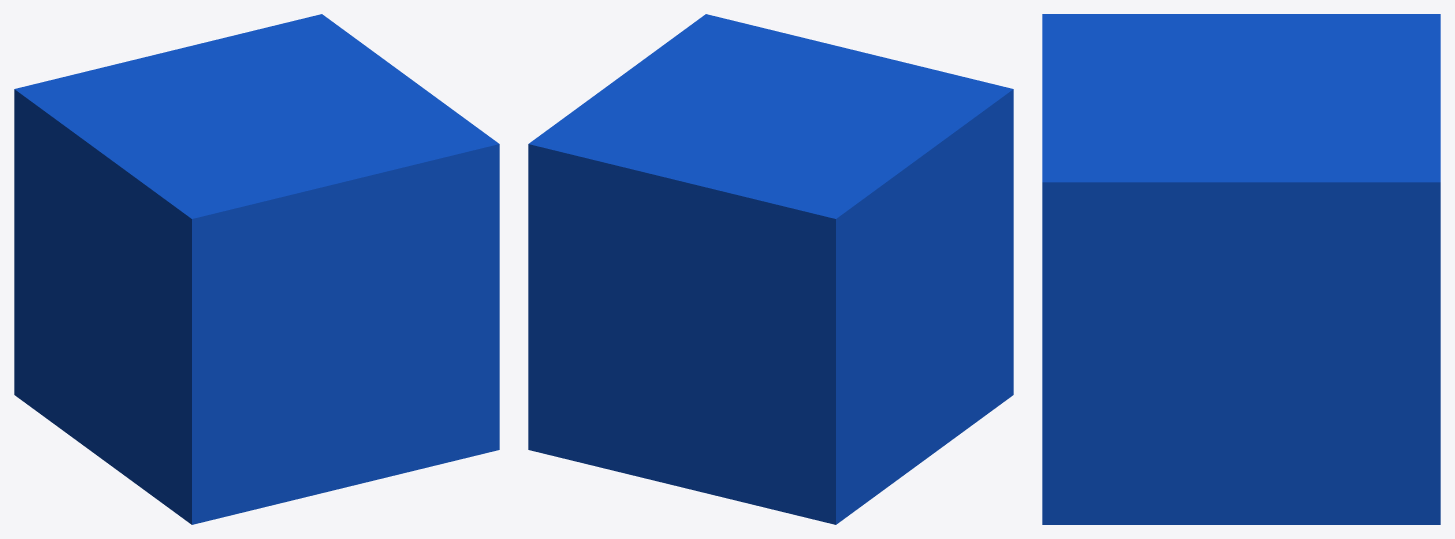
The model's file is CityLakeCube.fbx.
The picture shows the model from 3 angles, left to right: view 1: azimuth 30°, elevation 25°; view 2: azimuth 150°, elevation 25°; view 3: azimuth 270°, elevation 25°; orthographic projection. The views are drawn at different scales.
Visible parts, largest first — view 1: CityLakeCube; view 2: CityLakeCube; view 3: CityLakeCube.
Boxes of the visible parts, x1,y1,x2,y2 form: CityLakeCube: (14,14,499,524); CityLakeCube: (528,14,1013,524); CityLakeCube: (1042,14,1440,524).
Bounding box in the file's own units: 1 × 0.95 × 1.
